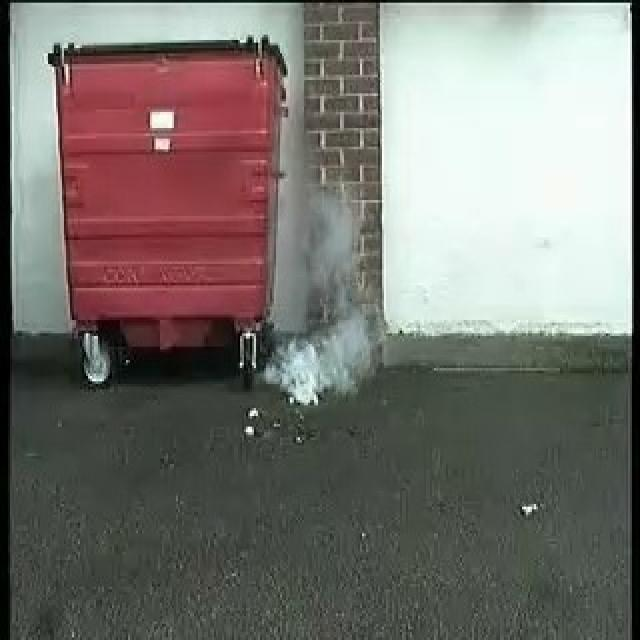smoke: (265, 188, 372, 402)
